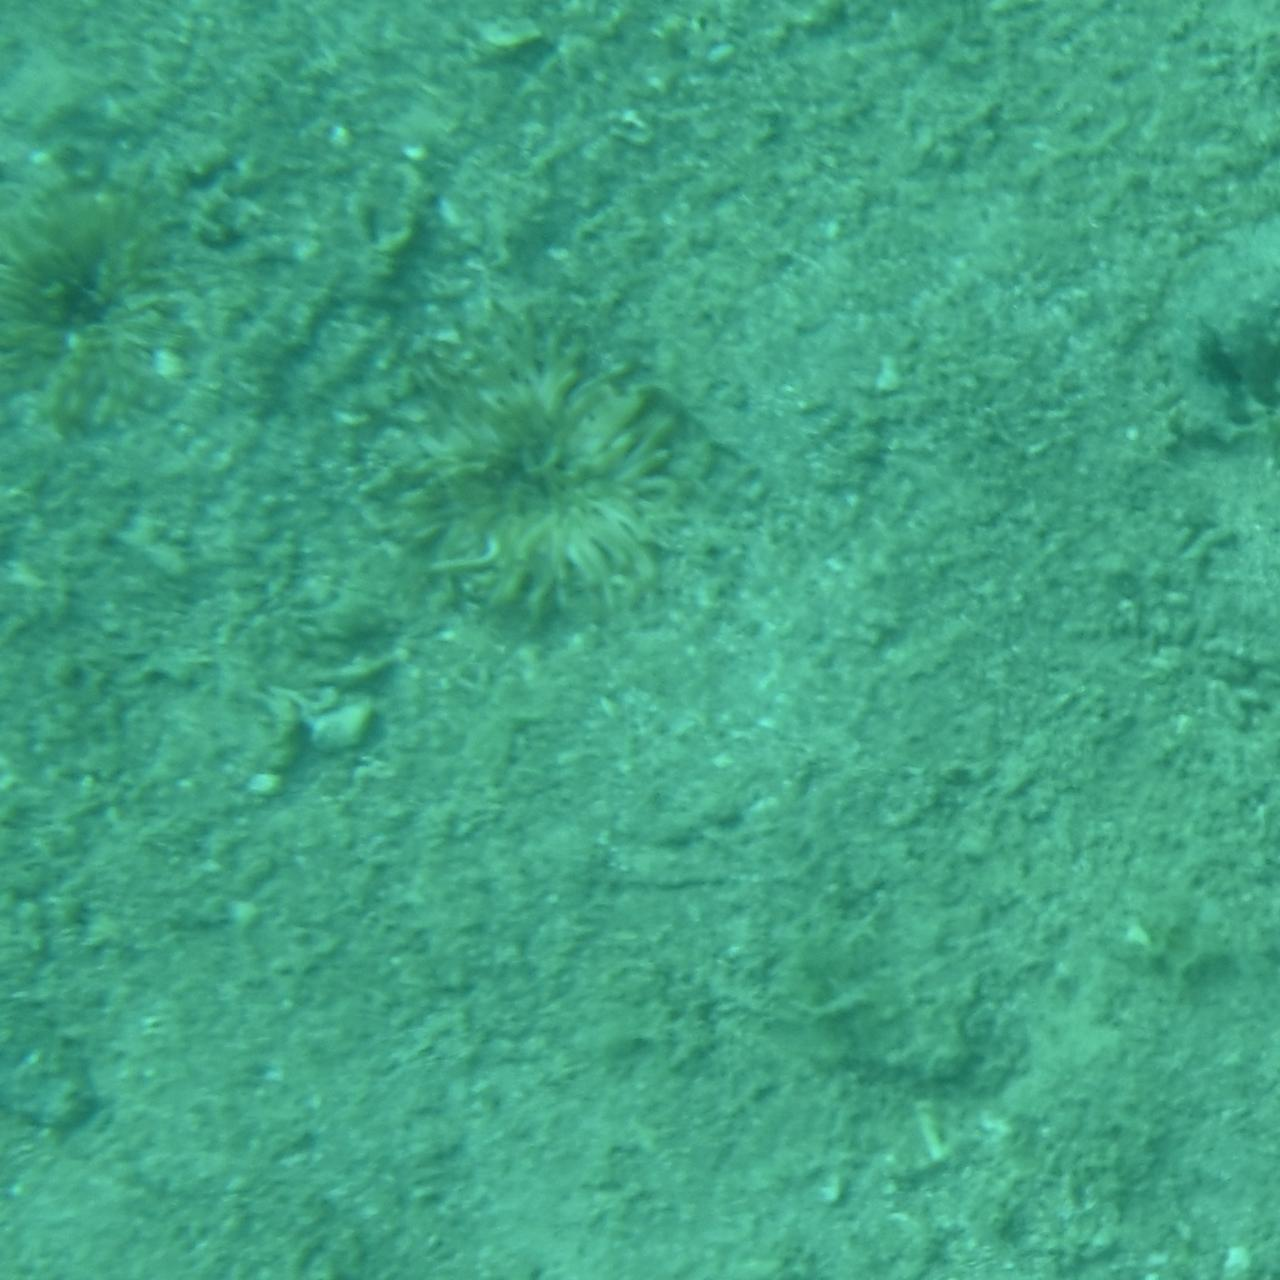Condylactis aurantiaca: (354, 275, 731, 608), (0, 147, 277, 442)
Holothuria tubulosa: (0, 812, 203, 1160), (1040, 202, 1280, 469)
